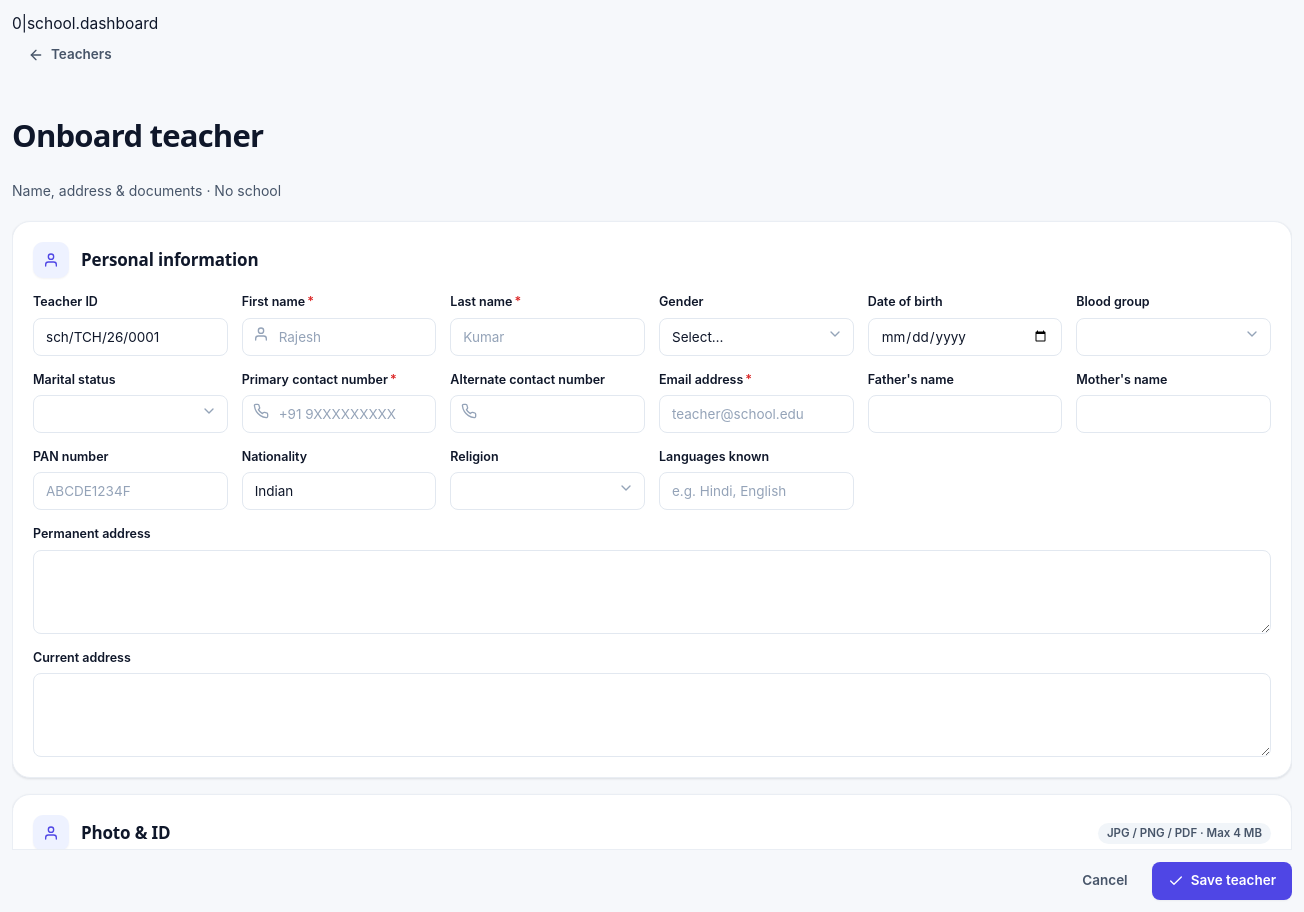
Test: Add Teacher form › blocks save and shows errors when required fields are empty
Step 1. Click the button "Save teacher" → (1222,881), box left=1152, top=862, right=1292, bottom=900
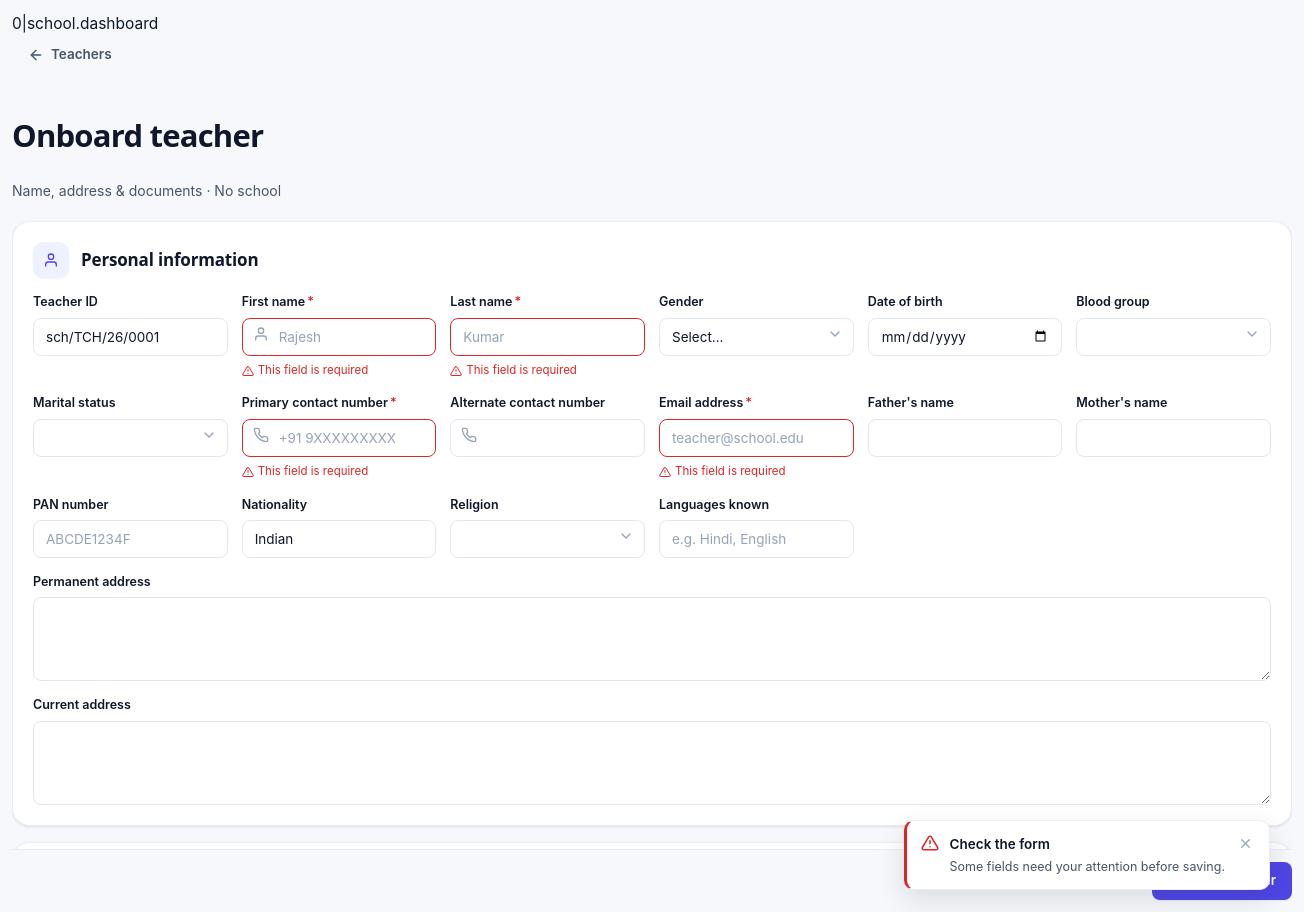
Expected: the text "This field is required" below "First name" is shown, left=258, top=363, right=368, bottom=377
